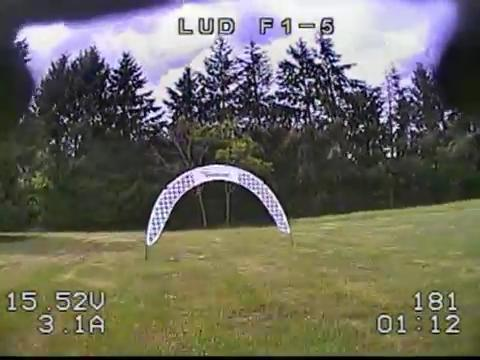gate: (145, 164, 292, 245)
